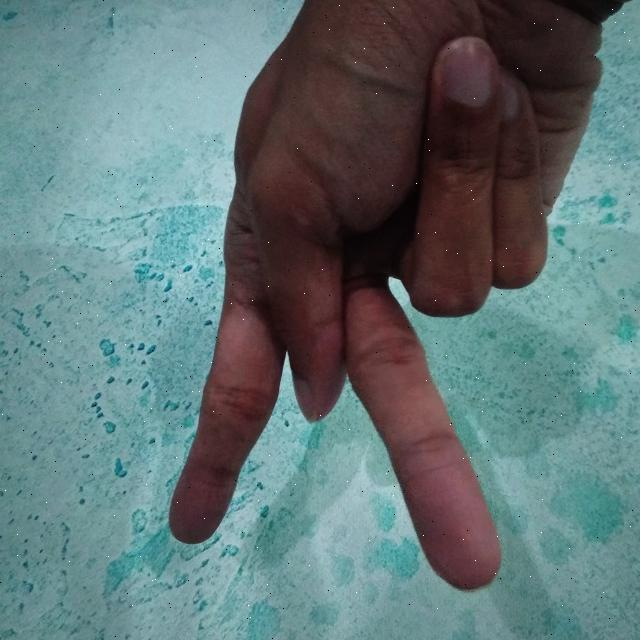P: (155, 0, 640, 584)
